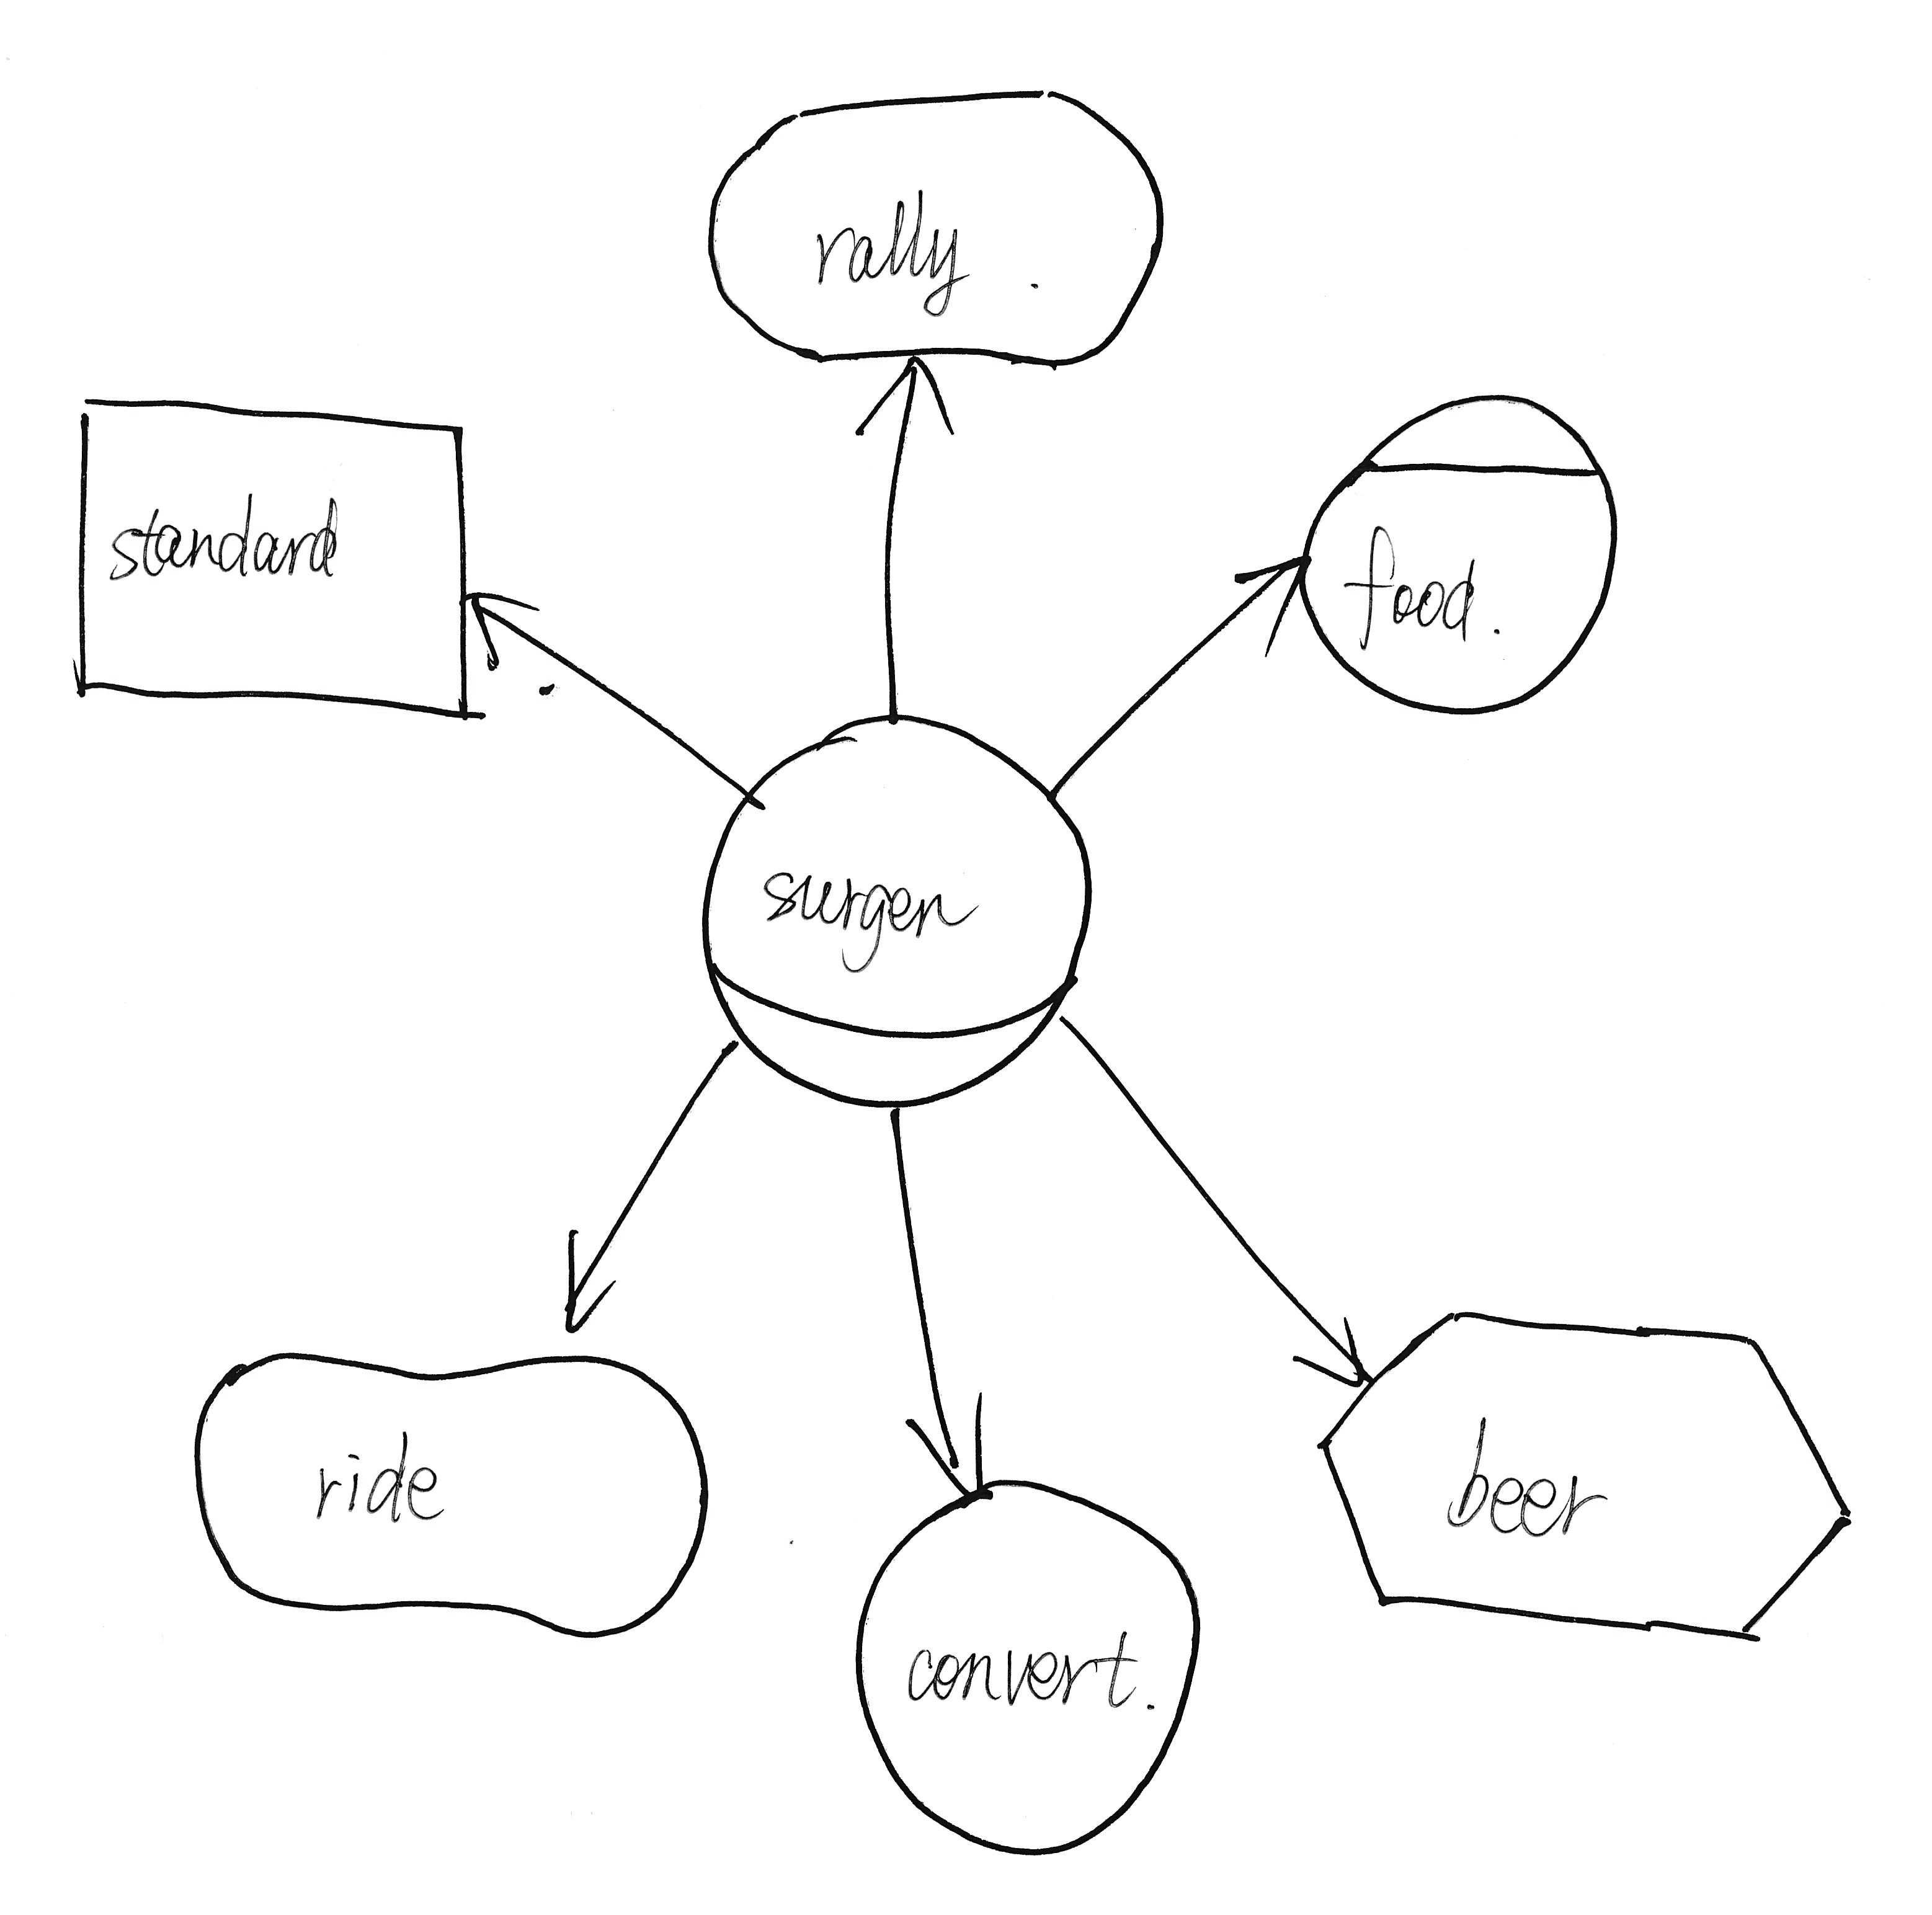actor: (842, 1464, 1222, 1876)
agent: (1283, 377, 1637, 726)
arrow: (891, 1384, 1026, 1517), (1222, 530, 1318, 684), (535, 1215, 636, 1352), (845, 345, 962, 459), (1282, 1292, 1383, 1399), (459, 565, 545, 689)
goal: (687, 68, 1187, 382)
quality: (175, 1328, 729, 1655)
resource: (49, 372, 494, 742)
role: (691, 700, 1105, 1124)
task: (1301, 1291, 1865, 1673)
